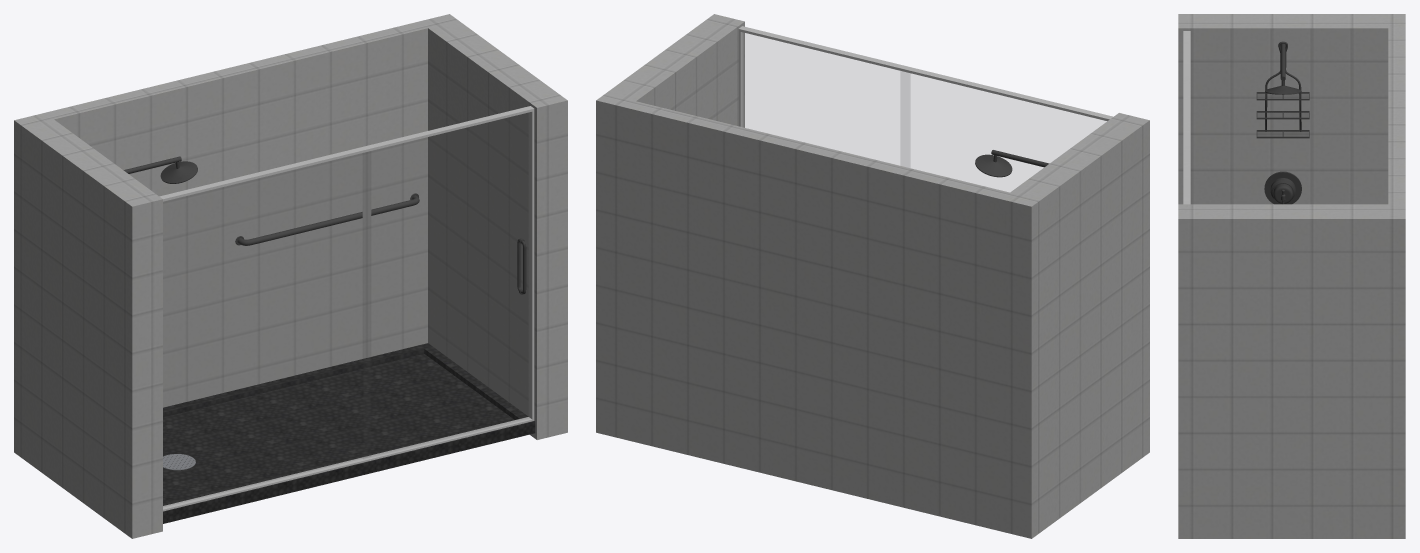
File: modern_shower.glb
3 views of the same model, side by side, from view 1: azimuth 30°, elevation 25°; view 2: azimuth 150°, elevation 25°; view 3: azimuth 270°, elevation 25° (orthographic). The views are drawn at different scales.
Parts seen in each view (by area): view 1: Shower (×2), Glass (×2), Door, Handle, Showerhead; view 2: Shower, Glass (×2), Door, Showerhead; view 3: Shower (×3), Door, Showerhead.
Part boxes in pixels (left/top/right/bottom): Shower (×2): left=14, top=14, right=567, bottom=538; Glass (×2): left=163, top=113, right=529, bottom=506; Door: left=159, top=106, right=534, bottom=511; Handle: left=235, top=193, right=419, bottom=245; Showerhead: left=123, top=156, right=197, bottom=183; Shower: left=596, top=14, right=1149, bottom=538; Glass (×2): left=743, top=33, right=1105, bottom=191; Door: left=738, top=26, right=1113, bottom=127; Showerhead: left=975, top=150, right=1049, bottom=177; Shower (×3): left=1178, top=14, right=1405, bottom=538; Door: left=1183, top=31, right=1190, bottom=204; Showerhead: left=1265, top=43, right=1301, bottom=94.
Size of the model in its own units: 327 by 238 by 153.
3 materials, 3 textured.
